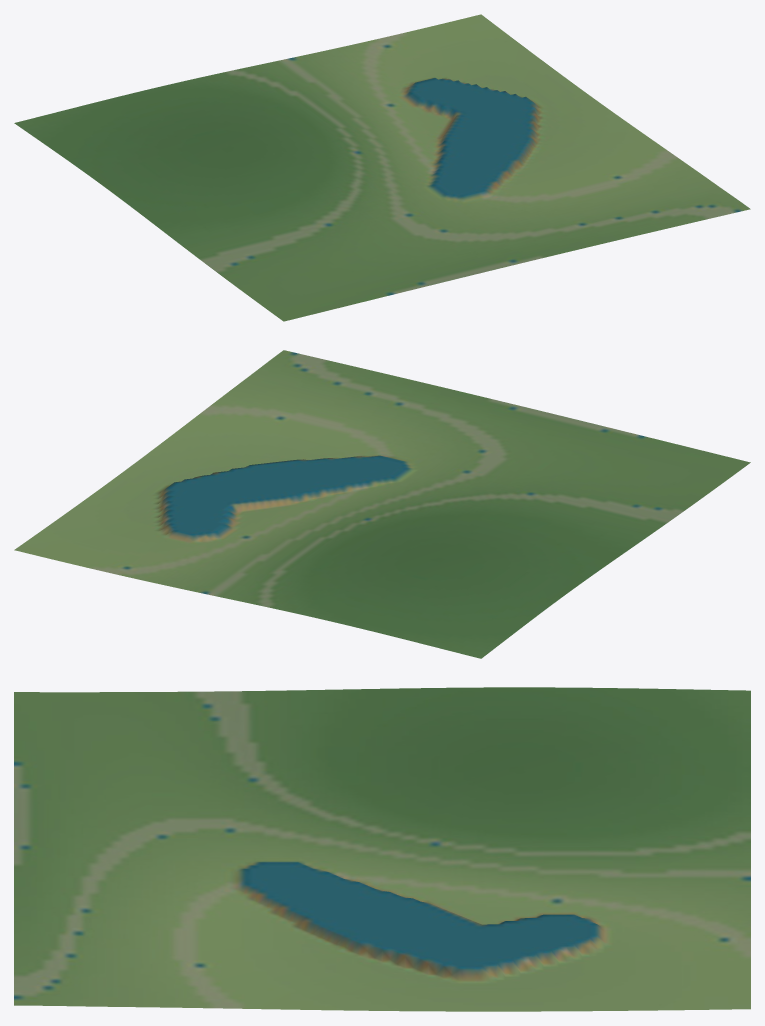
Rendered from terrain_T_E00_N02.glb.
3 views of the same model, one above another, from view 1: azimuth 30°, elevation 25°; view 2: azimuth 150°, elevation 25°; view 3: azimuth 270°, elevation 25° (orthographic). The views are drawn at different scales.
Parts seen in each view (by area): view 1: Terrain_T_E00_N02; view 2: Terrain_T_E00_N02; view 3: Terrain_T_E00_N02.
Boxes of the visible parts, box(x1,y1,x2,y2) form: Terrain_T_E00_N02: box(14, 14, 750, 321); Terrain_T_E00_N02: box(14, 350, 750, 658); Terrain_T_E00_N02: box(14, 687, 750, 1011).
Size of the model in its own units: 2000 by 53.29 by 2000.
Materials: 1 (1 with a texture image).
